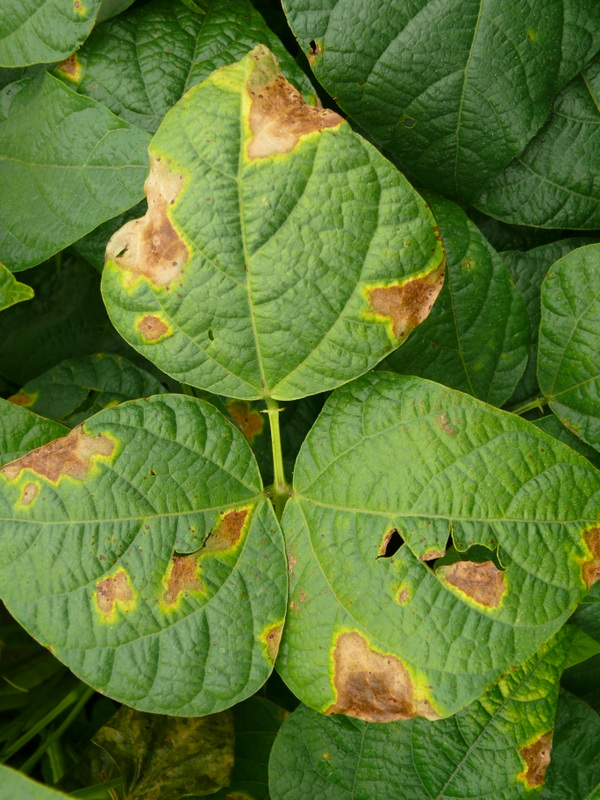StringBeans_BacterialBlight: (111, 39, 435, 411), (293, 363, 600, 713), (11, 395, 284, 730)
